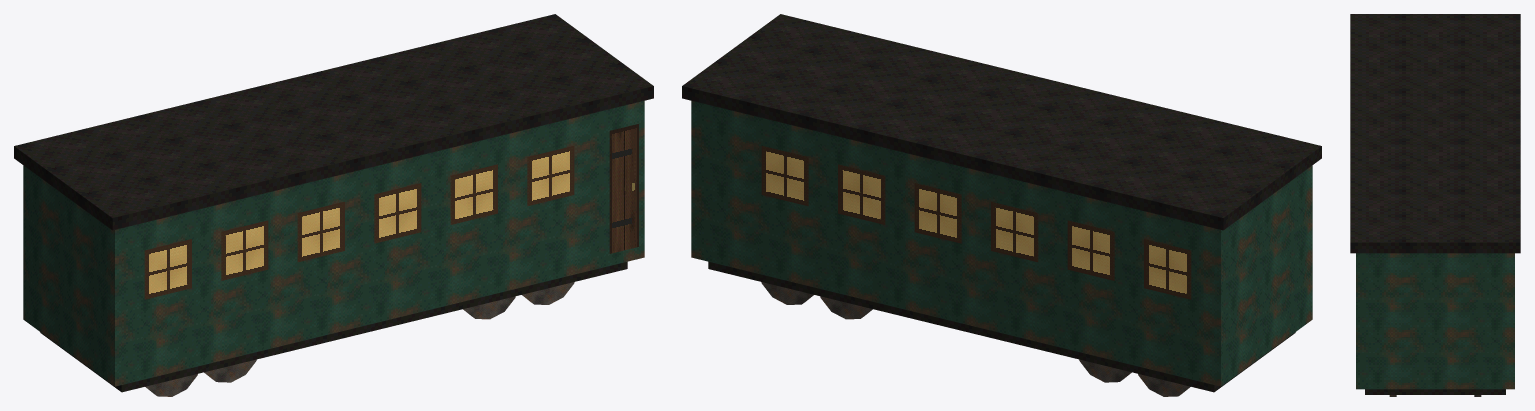
File: vagon.obj
3 views of the same model, side by side, from view 1: azimuth 30°, elevation 25°; view 2: azimuth 150°, elevation 25°; view 3: azimuth 270°, elevation 25° (orthographic). The views are drawn at different scales.
Parts seen in each view (by area): view 1: vagon; view 2: vagon; view 3: vagon.
Boxes of the visible parts, x1,y1,x2,y2 form: vagon: (14, 14, 653, 396); vagon: (682, 14, 1321, 396); vagon: (1350, 14, 1520, 396).
Size of the model in its own units: 9.2 by 3.5 by 2.9.
5 materials, 5 textured.
